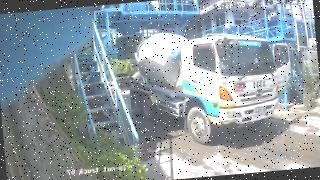cement_mixer_truck: (130, 33, 292, 144)
